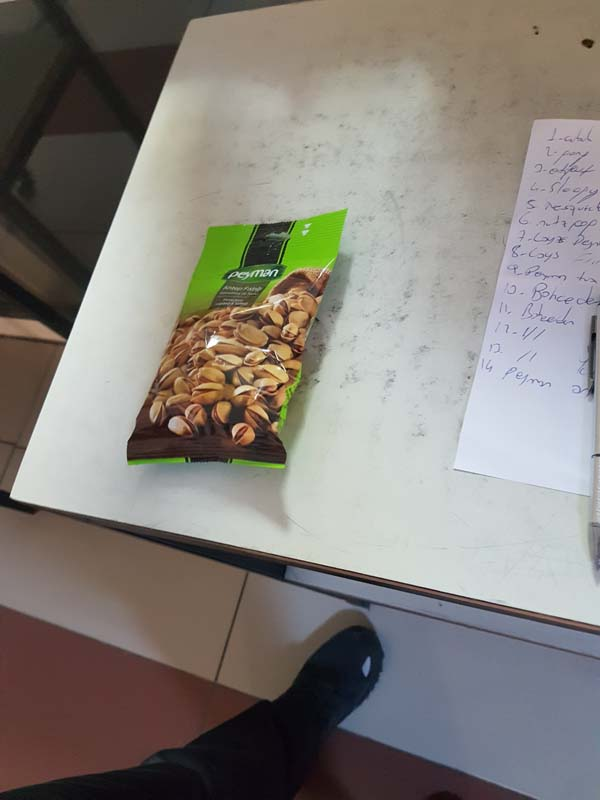antepfistigi: (128, 210, 356, 477)
